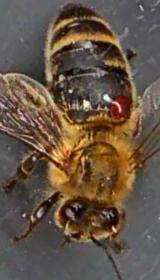varroa_mite: (102, 90, 140, 124)
